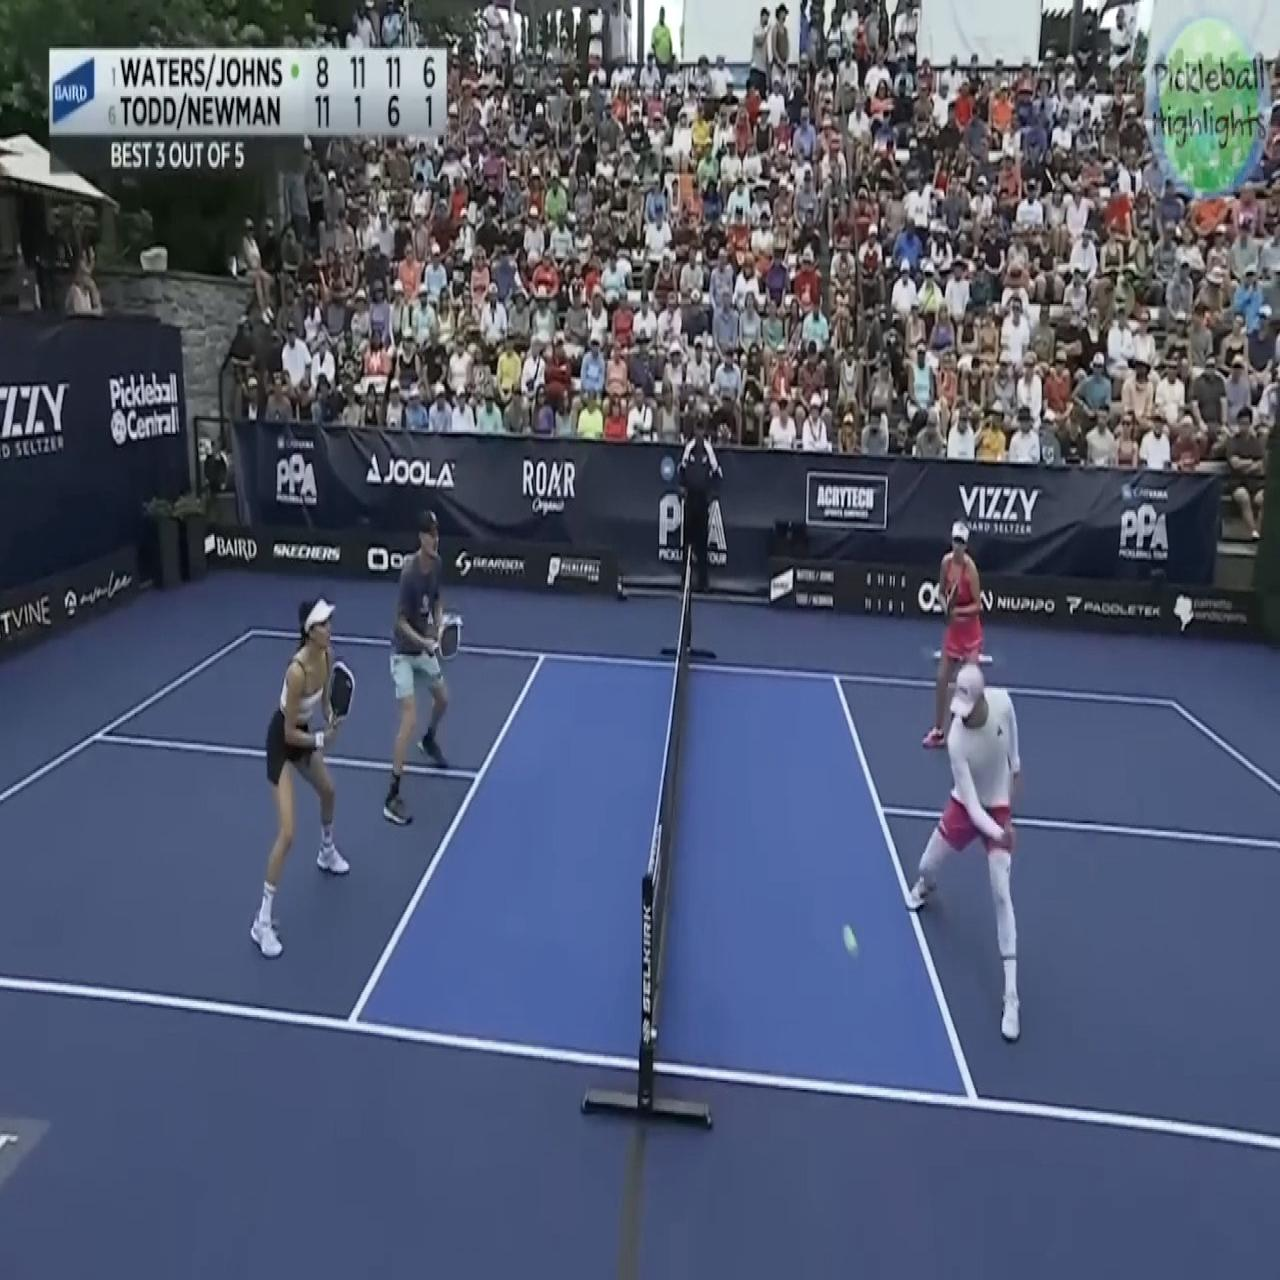Pickleball: (840, 918, 859, 959)
